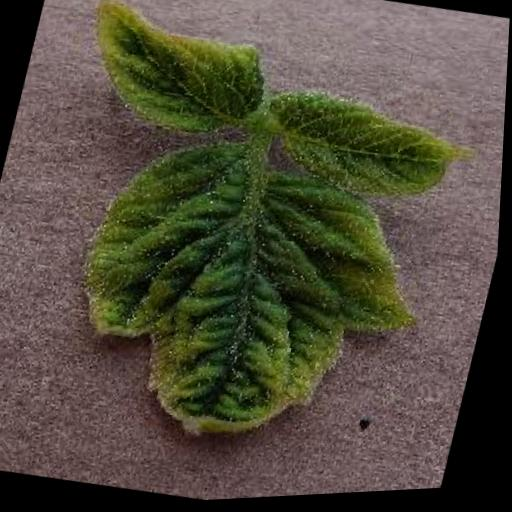Yellow Leaf Curl Virus: (50, 120, 445, 479), (62, 0, 283, 157), (257, 76, 483, 221)
